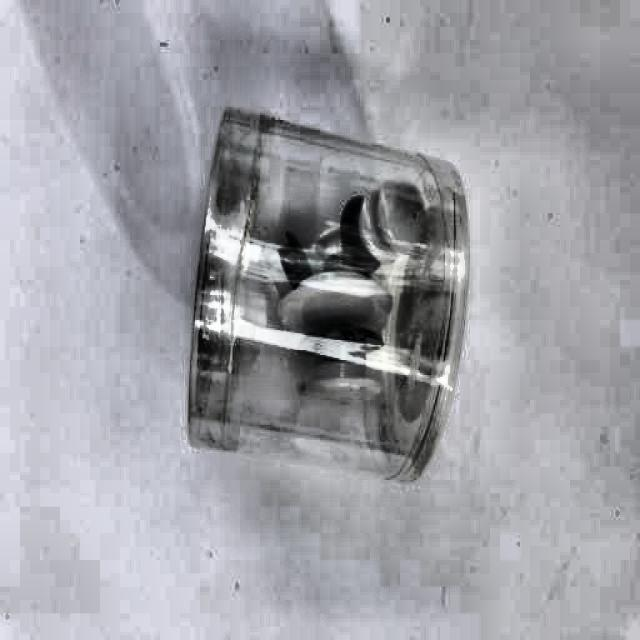plastic: (192, 105, 468, 485)
